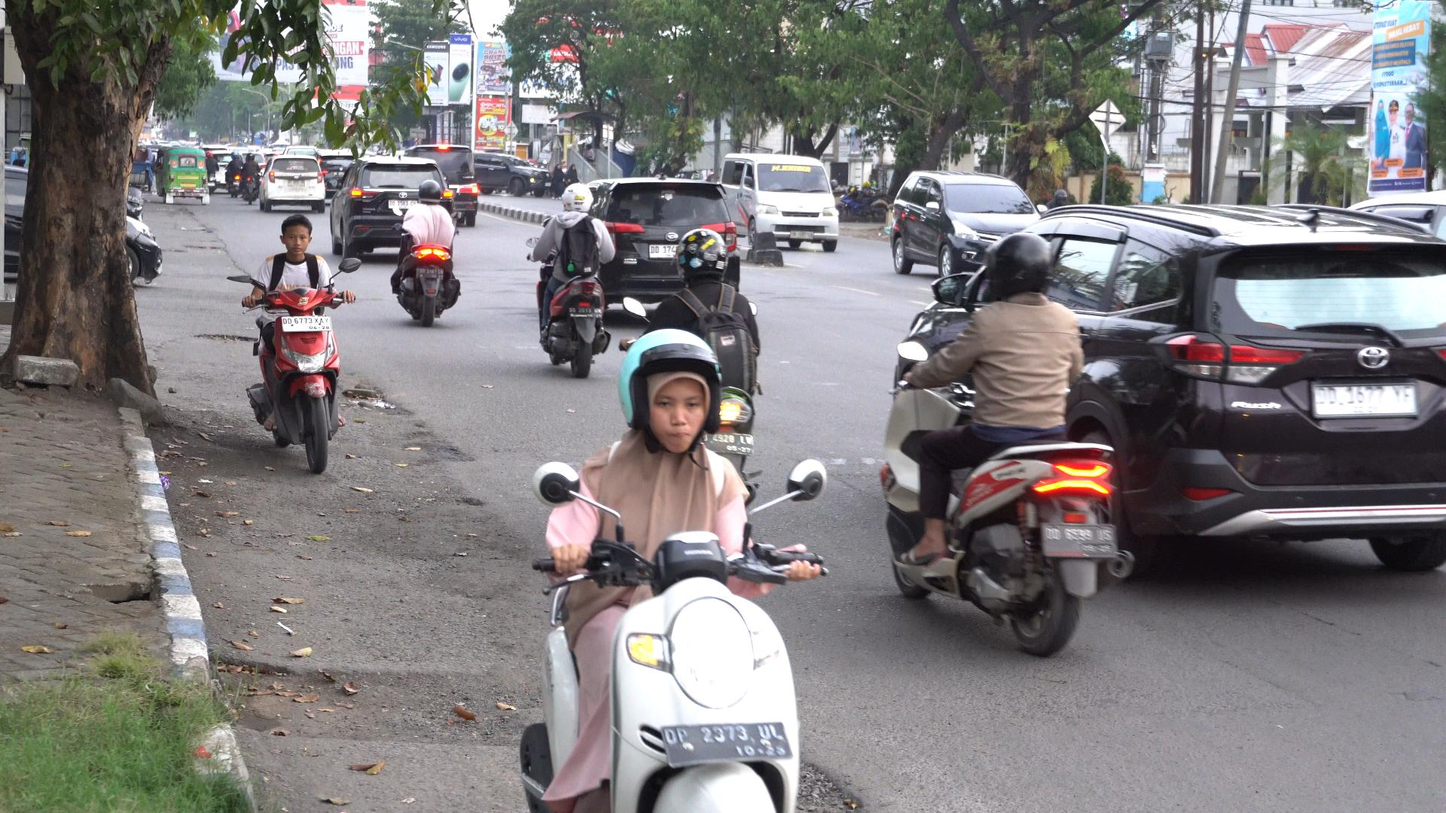number-plate: (665, 723, 796, 765), (279, 312, 333, 336)
